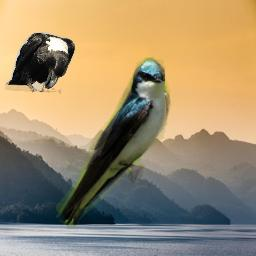Crow: (5, 31, 76, 94)
Swallow: (56, 57, 172, 232)
